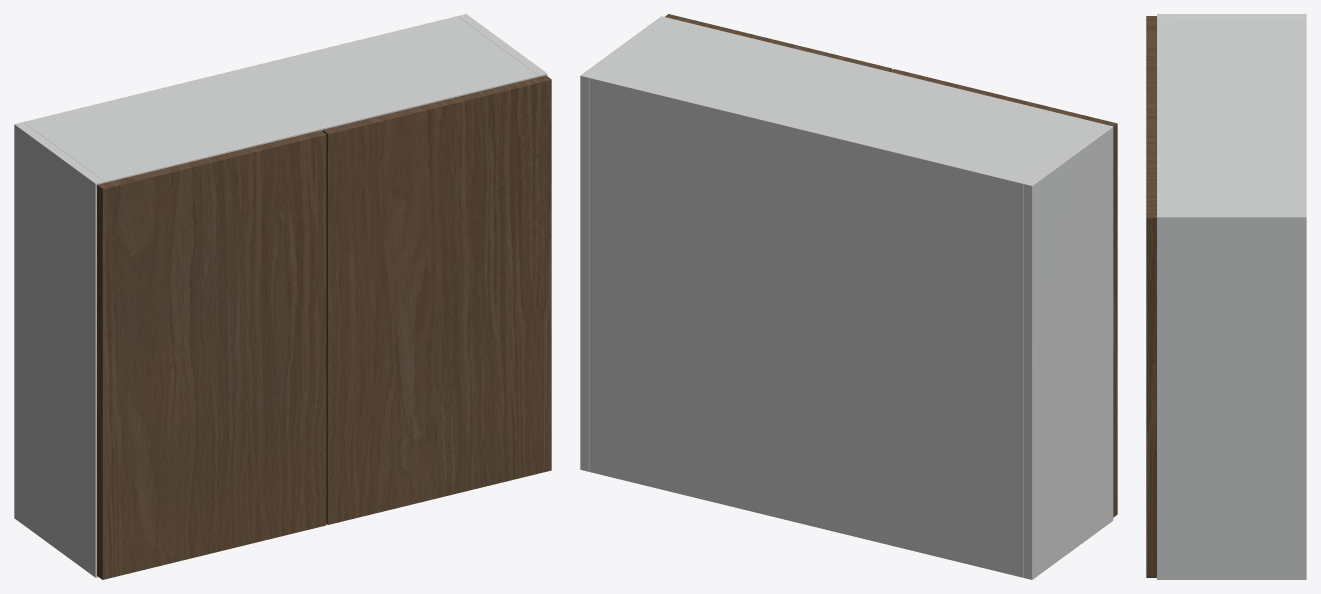
The model's file is oppein-ply-mso-w3630.glb.
3 renders of one model, left to right at view 1: azimuth 30°, elevation 25°; view 2: azimuth 150°, elevation 25°; view 3: azimuth 270°, elevation 25°, orthographic. The views are drawn at different scales.
Visible parts, largest first — view 1: Door, Door.001, Cabinet top, Cabinet side, Cabinet back, Cabinet side.001; view 2: Cabinet back, Cabinet side, Cabinet top, Cabinet side.001, Cabinet bottom, Door, Door.001; view 3: Cabinet side.001, Cabinet top, Door.001, Cabinet back, Door, Cabinet side.
Part boxes in pixels (x1=…): Door: x1=97, y1=130, x2=326, y2=579; Door.001: x1=322, y1=75, x2=551, y2=524; Cabinet top: x1=23, y1=18, x2=538, y2=182; Cabinet side: x1=14, y1=122, x2=104, y2=577; Cabinet back: x1=24, y1=16, x2=459, y2=124; Cabinet side.001: x1=458, y1=14, x2=547, y2=76; Cabinet back: x1=589, y1=76, x2=1025, y2=577; Cabinet side: x1=1023, y1=124, x2=1113, y2=579; Cabinet top: x1=589, y1=18, x2=1104, y2=191; Cabinet side.001: x1=580, y1=16, x2=669, y2=471; Cabinet bottom: x1=589, y1=463, x2=1023, y2=577; Door: x1=890, y1=69, x2=1117, y2=517; Door.001: x1=665, y1=14, x2=892, y2=71; Cabinet side.001: x1=1157, y1=213, x2=1306, y2=579; Cabinet top: x1=1157, y1=18, x2=1306, y2=213; Door.001: x1=1146, y1=117, x2=1156, y2=577; Cabinet back: x1=1300, y1=18, x2=1306, y2=213; Door: x1=1146, y1=16, x2=1156, y2=117; Cabinet side: x1=1157, y1=14, x2=1306, y2=17.
Bounding box in the file's own units: 0.9144 × 0.762 × 0.3048.
2 materials, 1 textured.
